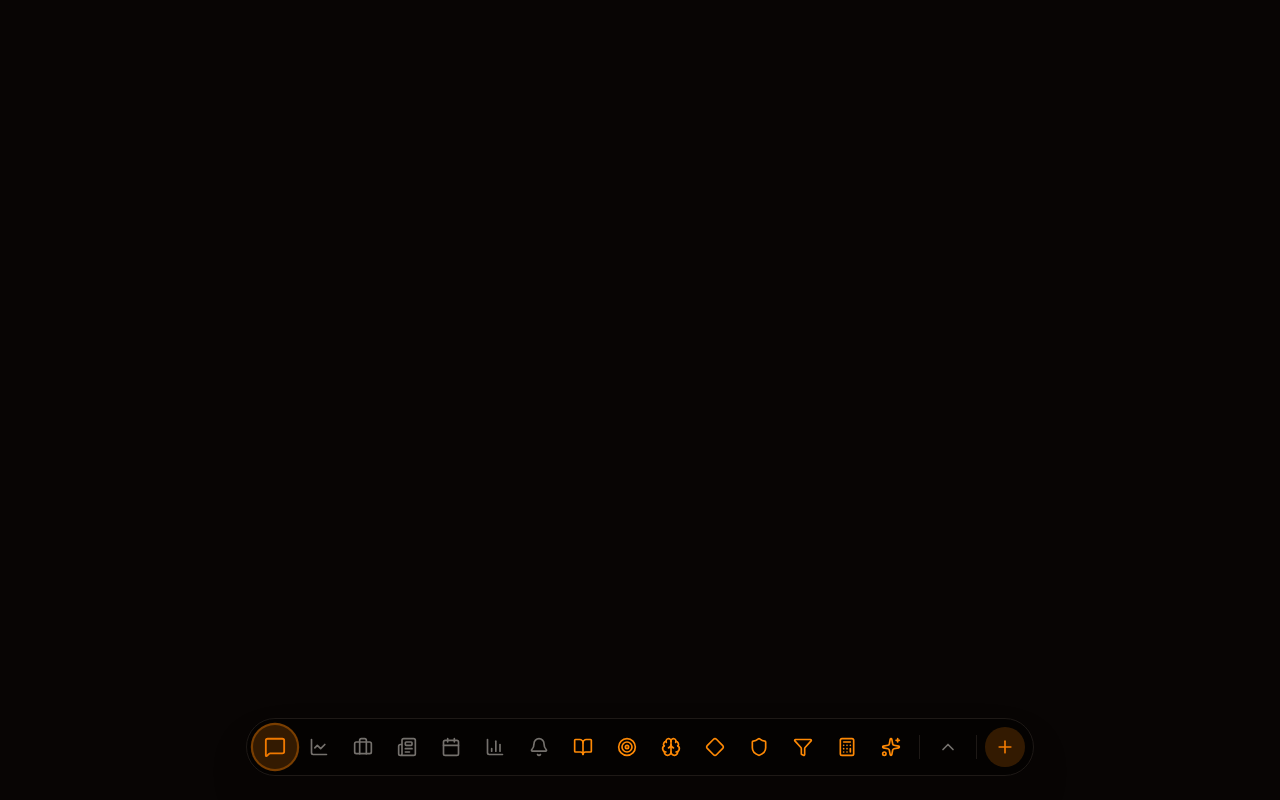
Test: SwipeableToolbar › Expanded State › should collapse when close button is clicked
This screenshot has width=1280, height=800.
Click the button named "Expand all tools": (948, 747) [928,727,968,767]
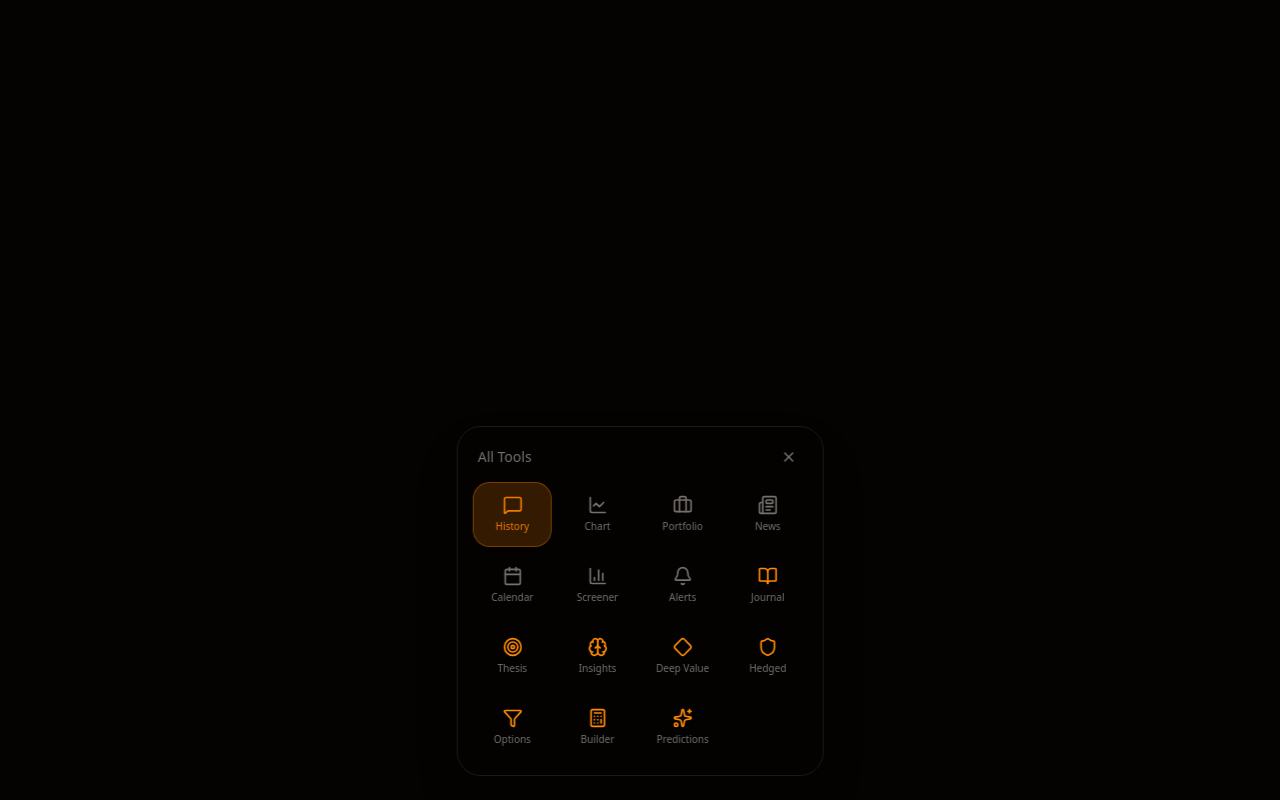
Click the button named "Close tools grid": (788, 457) [774,443,802,471]
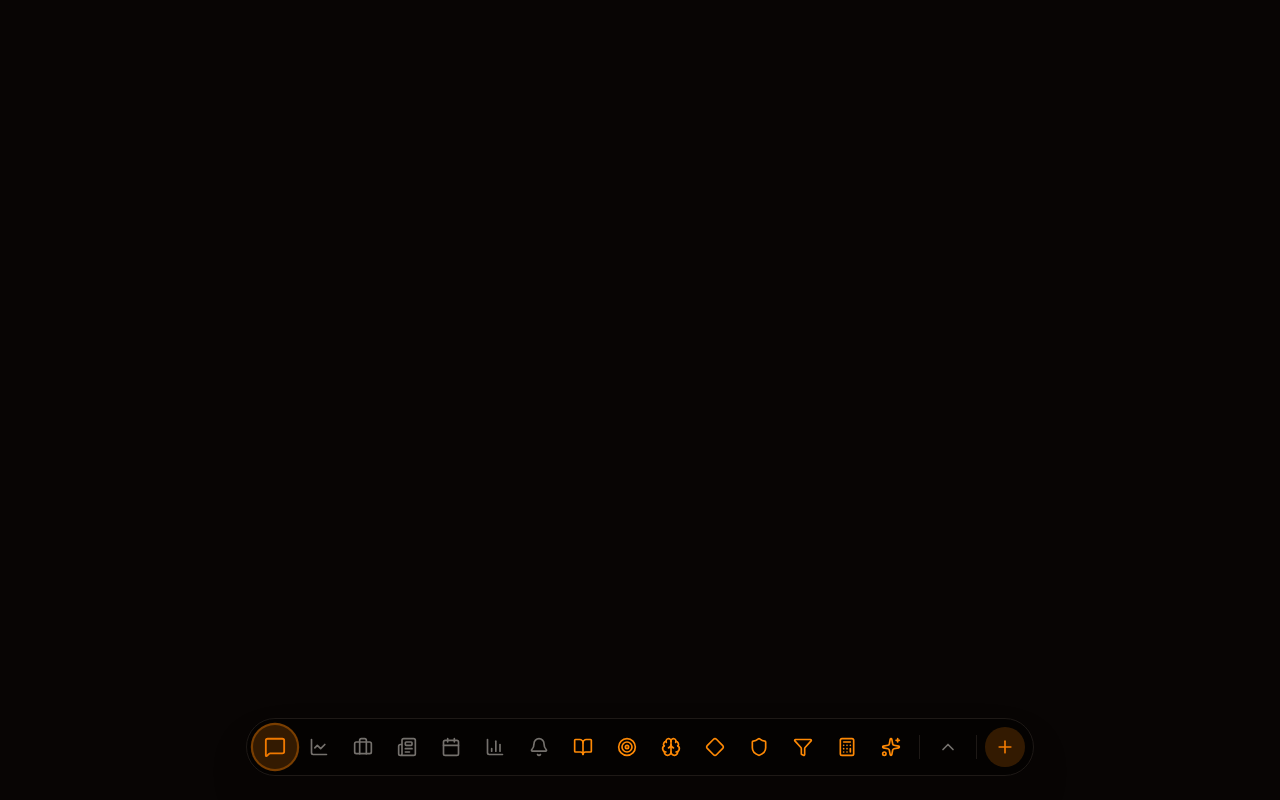
Result: the text "All Tools" is gone
